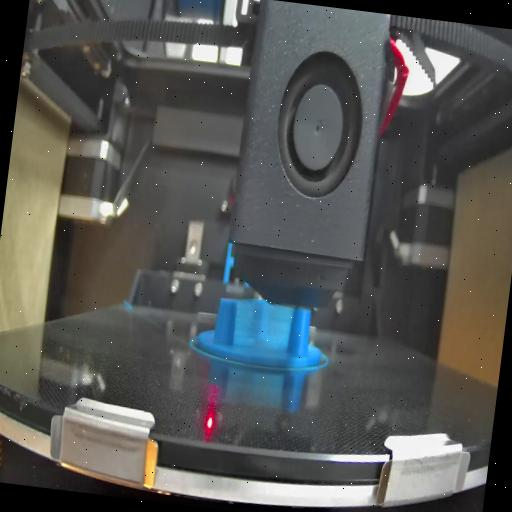stringing: (233, 302, 293, 353)
